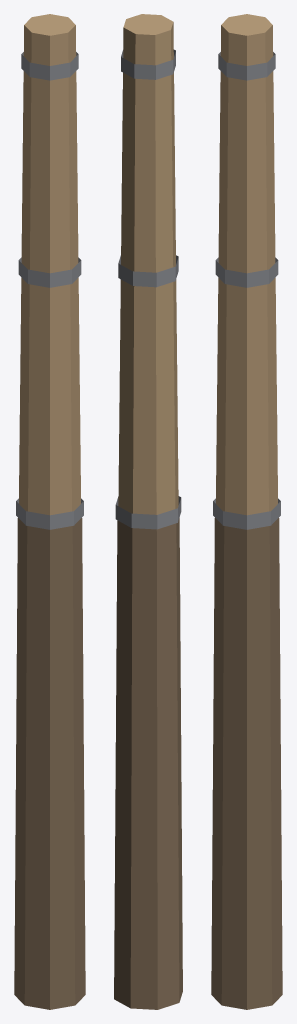
The model's file is rig_piling.glb.
The picture shows the model from 3 angles, left to right: view 1: azimuth 90°, elevation 25°; view 2: azimuth 150°, elevation 25°; view 3: azimuth 270°, elevation 25°; orthographic projection.
Visible parts, largest first — view 1: rig_piling; view 2: rig_piling; view 3: rig_piling.
Part boxes in pixels (box(x1,y1,x2,y2)): rig_piling: box(14, 14, 85, 1009); rig_piling: box(114, 14, 182, 1009); rig_piling: box(211, 14, 282, 1009).
Size of the model in its own units: 0.8 by 12 by 0.8.
